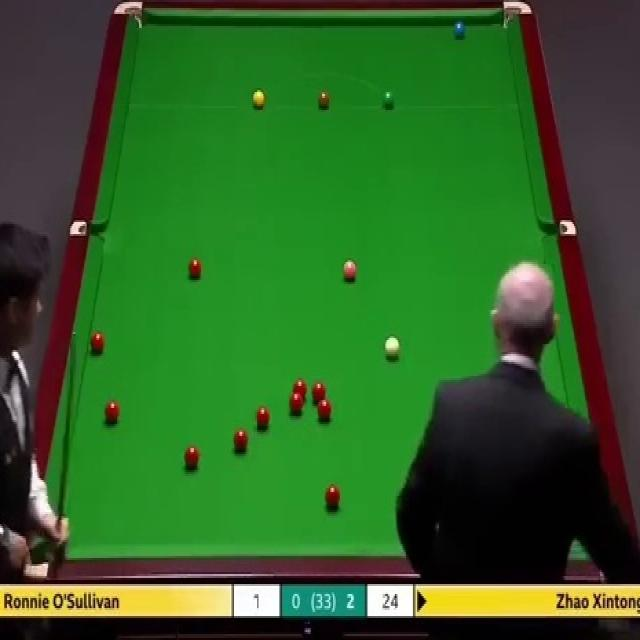blue-ball: (454, 20, 466, 42)
brown-ball: (317, 90, 330, 109)
green-ball: (381, 90, 394, 109)
pink-ball: (342, 262, 358, 284)
red-ball: (317, 396, 333, 424), (105, 398, 121, 424), (183, 446, 200, 470), (324, 483, 340, 508), (90, 333, 105, 358), (232, 434, 246, 459), (255, 404, 269, 428), (290, 394, 305, 415), (292, 378, 307, 399), (312, 381, 326, 403), (188, 260, 202, 278)
white-ball: (383, 334, 401, 360)
yellow-ball: (252, 90, 265, 109)
